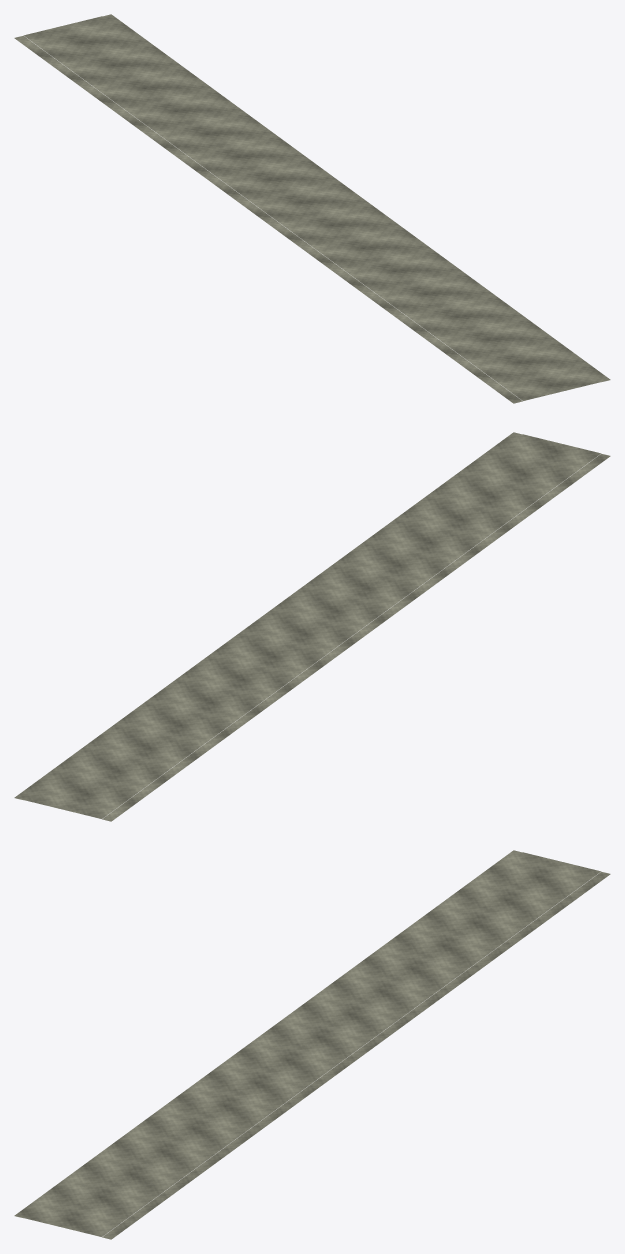
The model's file is road_gravel_straight_64m.glb.
3 views of the same model, one above another, from view 1: azimuth 30°, elevation 25°; view 2: azimuth 150°, elevation 25°; view 3: azimuth 330°, elevation 25° (orthographic).
Visible parts, largest first — view 1: static_gravel; view 2: static_gravel; view 3: static_gravel.
Boxes of the visible parts, <box> form: static_gravel: <box>14,14,610,403</box>; static_gravel: <box>14,432,610,821</box>; static_gravel: <box>14,850,610,1239</box>.
Size of the model in its own units: 7.2 by 0.018 by 64.
Materials: 1 (1 with a texture image).
